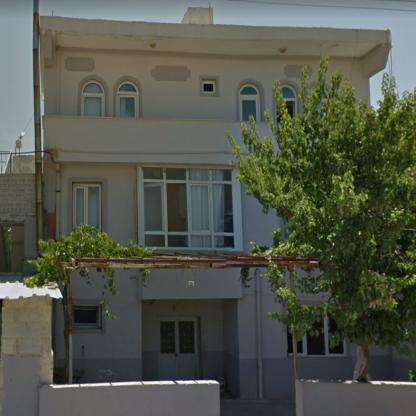door: (158, 317, 199, 380)
window: (136, 164, 242, 252), (297, 315, 346, 355), (72, 182, 101, 230), (238, 83, 261, 122), (81, 79, 104, 117), (116, 81, 139, 117), (73, 305, 102, 330), (281, 84, 298, 118), (203, 78, 216, 92), (288, 324, 293, 356)
